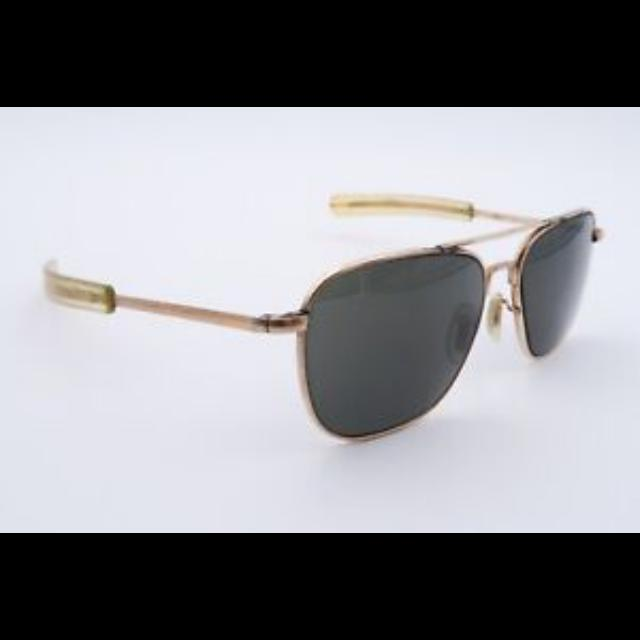sunglasses: (52, 182, 608, 434)
